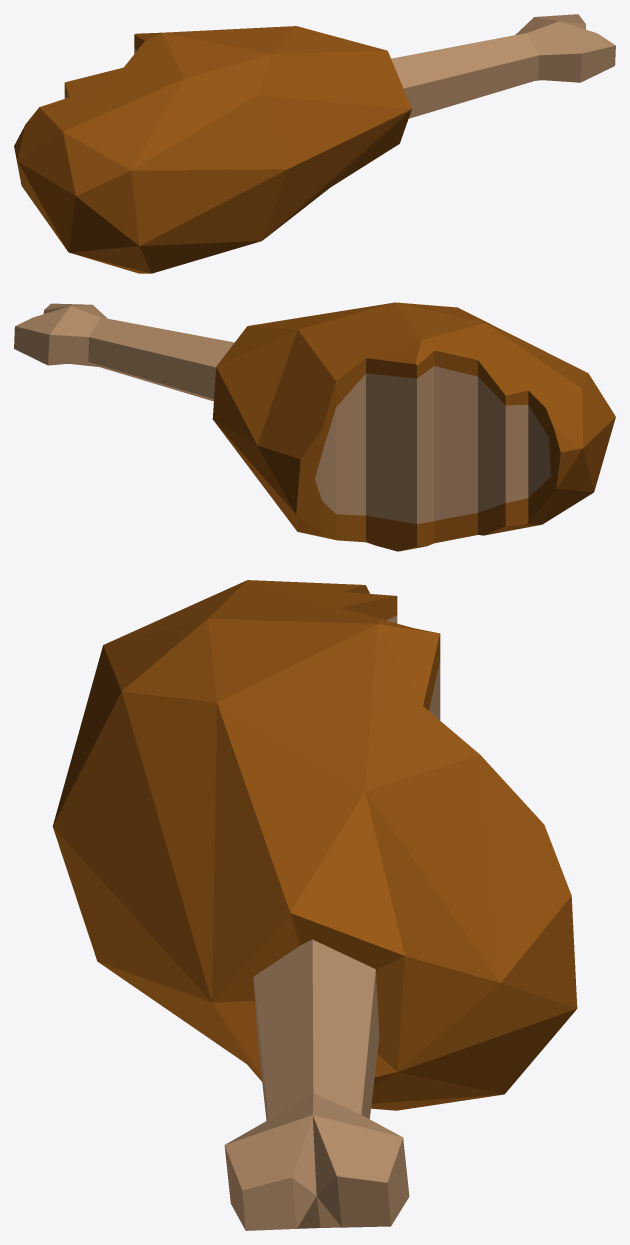
The model's file is BittenDrumstick.glb.
The picture shows the model from 3 angles, top to bottom: view 1: azimuth 30°, elevation 25°; view 2: azimuth 150°, elevation 25°; view 3: azimuth 270°, elevation 25°; orthographic projection. The views are drawn at different scales.
Visible parts, largest first — view 1: BittenDrumstick; view 2: BittenDrumstick; view 3: BittenDrumstick.
Part boxes in pixels (x1,y1,x2,y2): BittenDrumstick: (14, 14, 615, 273); BittenDrumstick: (14, 302, 615, 551); BittenDrumstick: (52, 580, 577, 1230).
Size of the model in its own units: 0.2332 by 0.0827 by 0.0955.
